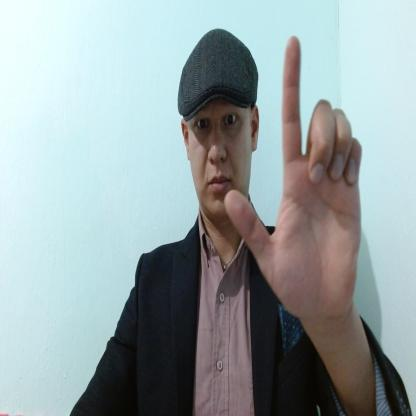L: (225, 36, 360, 321)
